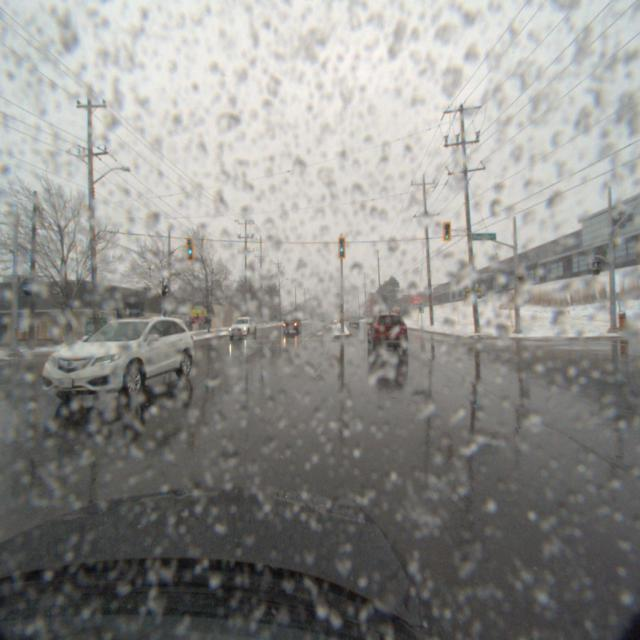Car: (13, 313, 197, 413), (361, 314, 411, 359), (222, 317, 255, 342)
